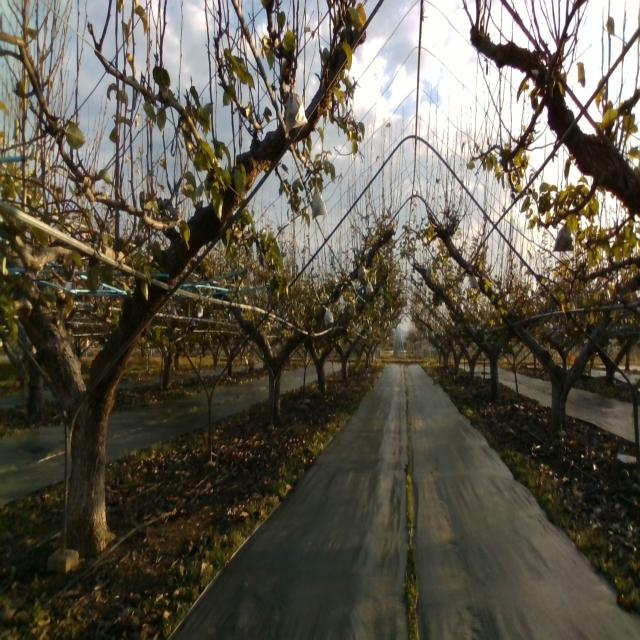pearbags: (284, 92, 308, 138), (552, 222, 576, 253), (310, 184, 328, 221), (324, 306, 334, 326)
